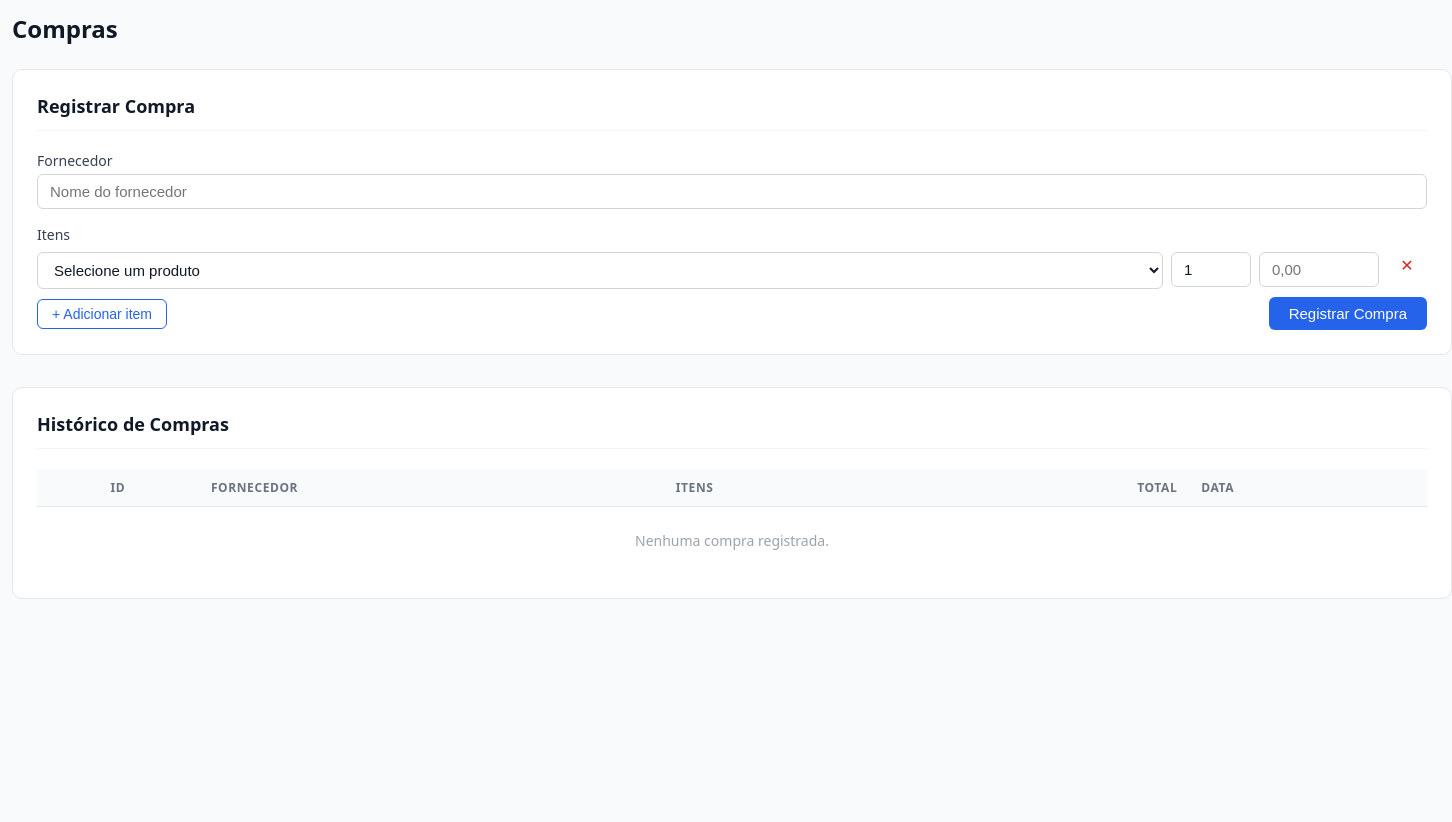
ComprasView › exibe mensagem de erro quando a API retorna falha
The width and height of the screenshot is (1452, 822).
Type "Fornecedor X" into the field with test id "input-fornecedor" at (732, 192), box [37,174,1427,209]
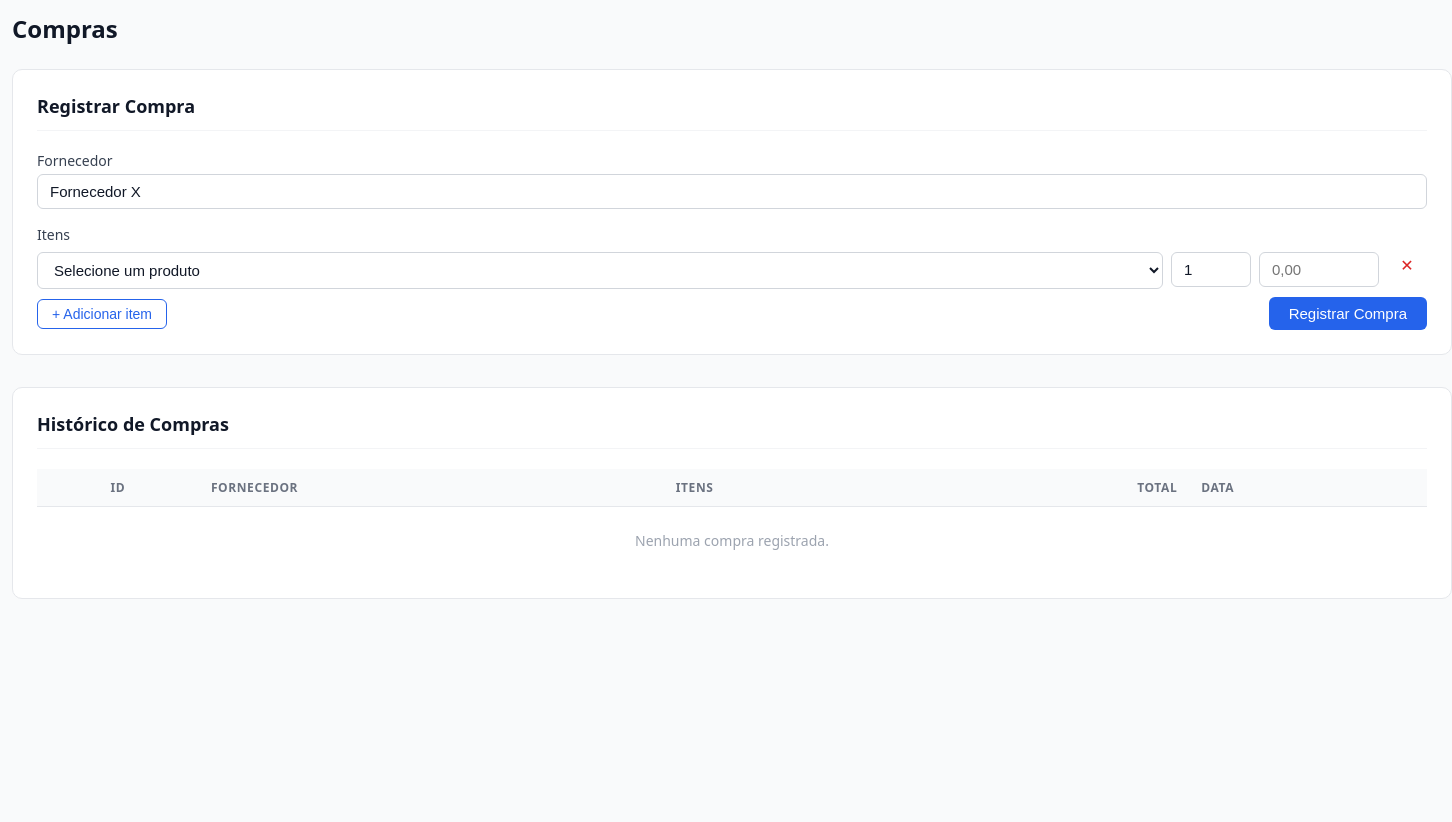
Select "Produto A" in the dropdown with test id "select-produto" at (600, 270), box [37,252,1163,289]
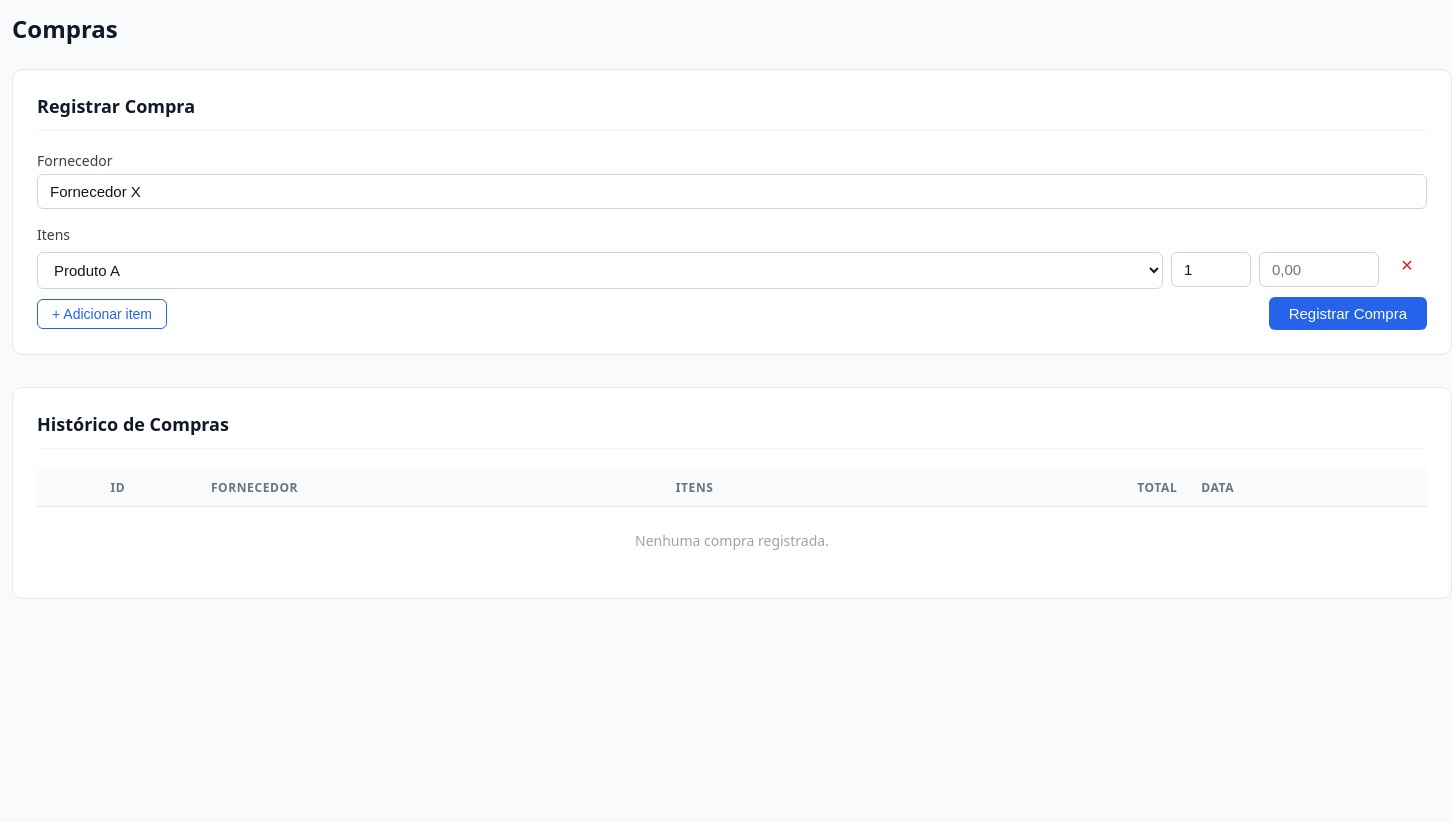
Replace the text in the number field with test id "input-quantidade" with "2" at (1211, 270), box [1171,252,1251,287]
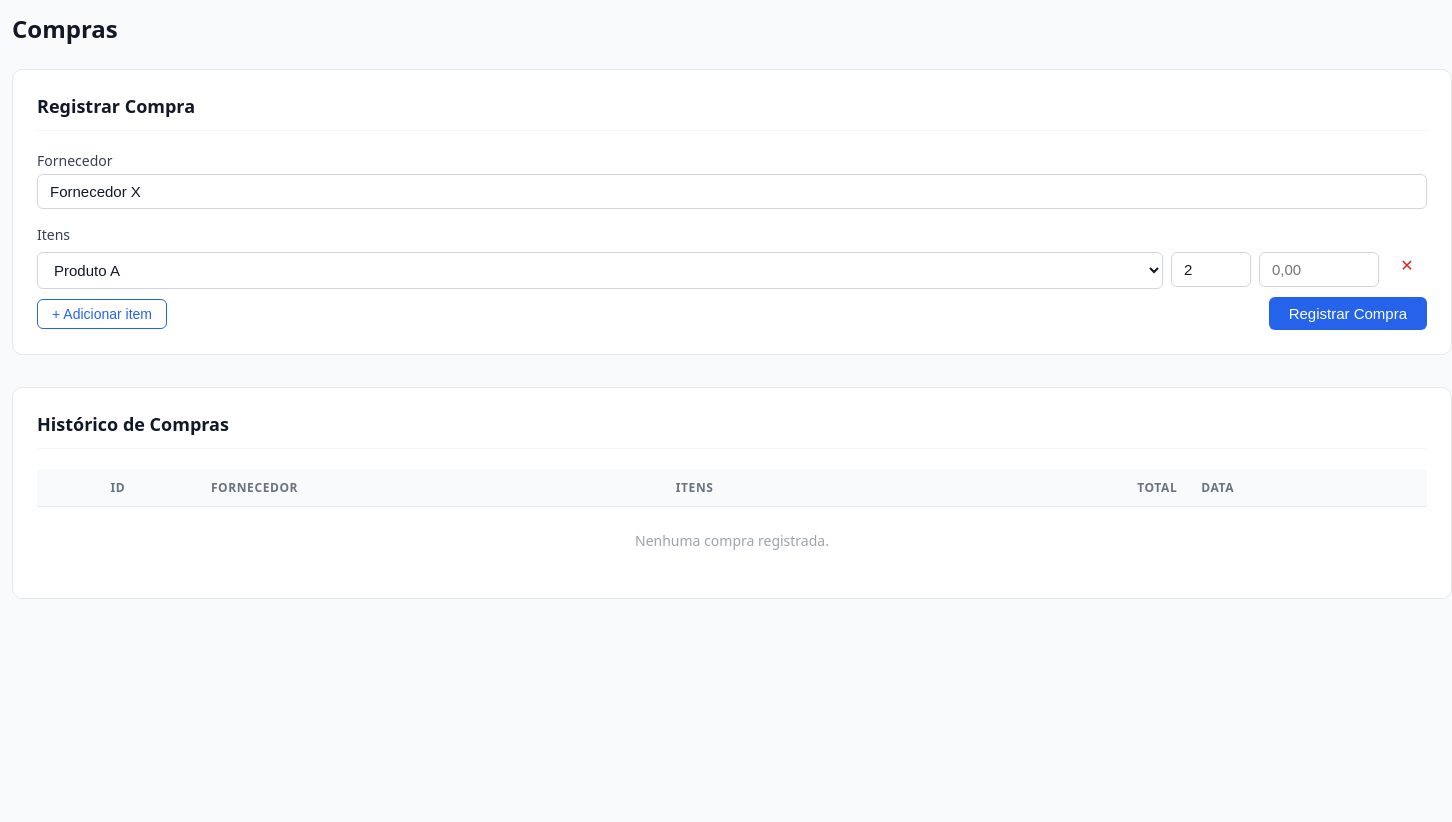
Type "1000" into the field with test id "input-preco-venda" at (1319, 270), box [1259,252,1379,287]
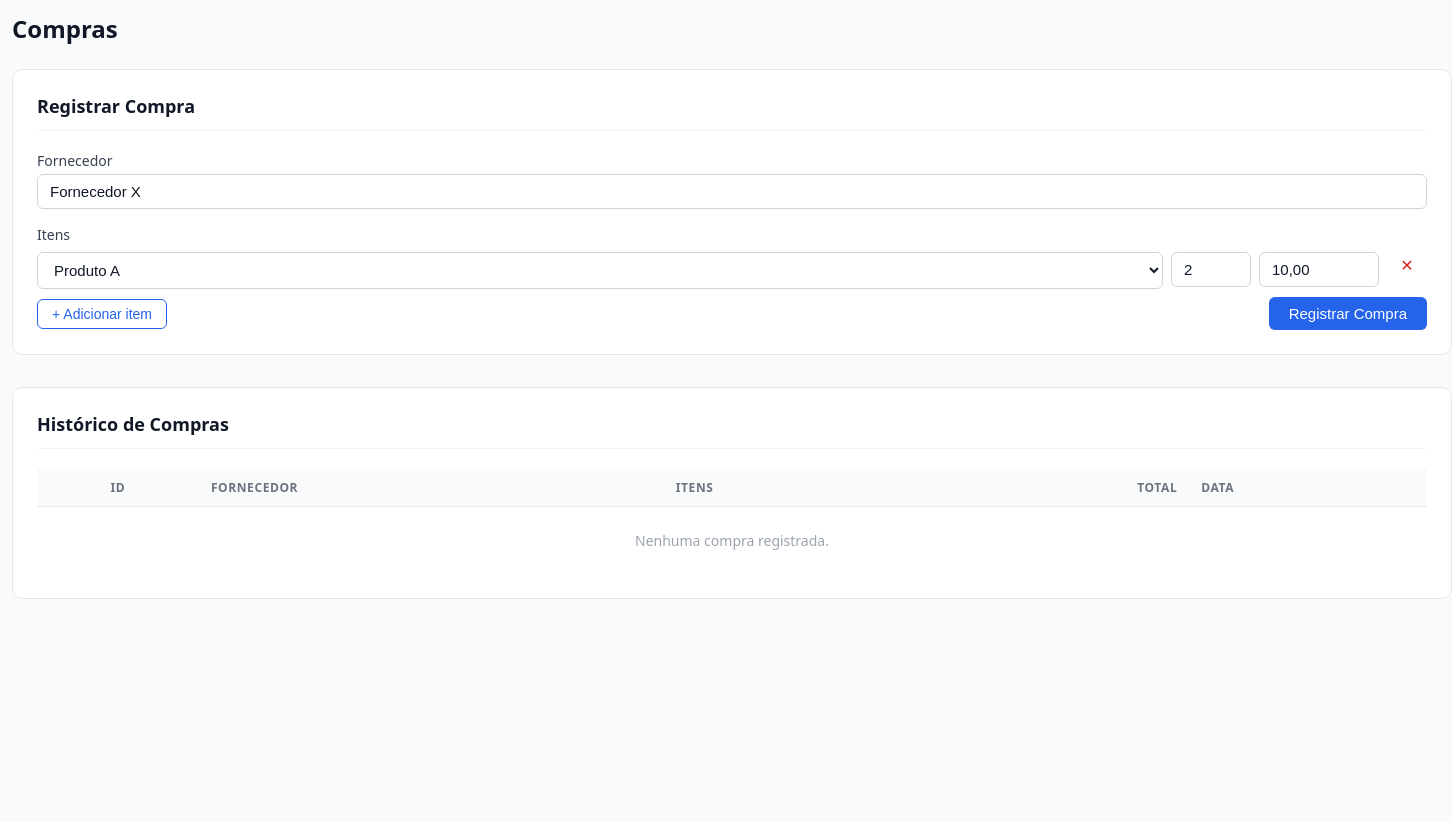
Click the button with test id "btn-registrar" at (1348, 314), box [1269,297,1427,330]
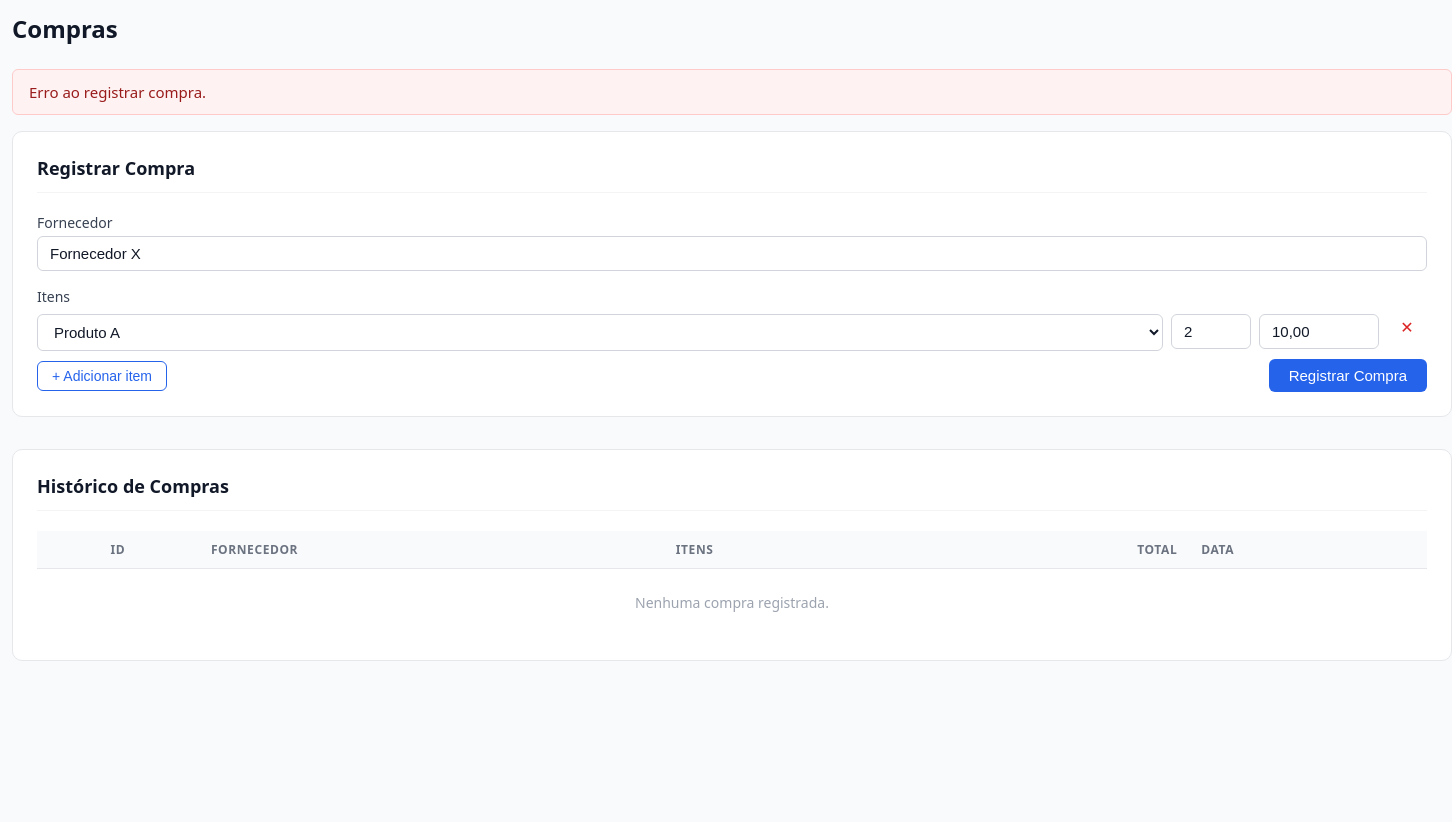
Expected: the text "Erro ao registrar" is shown, [29,82,206,102]
